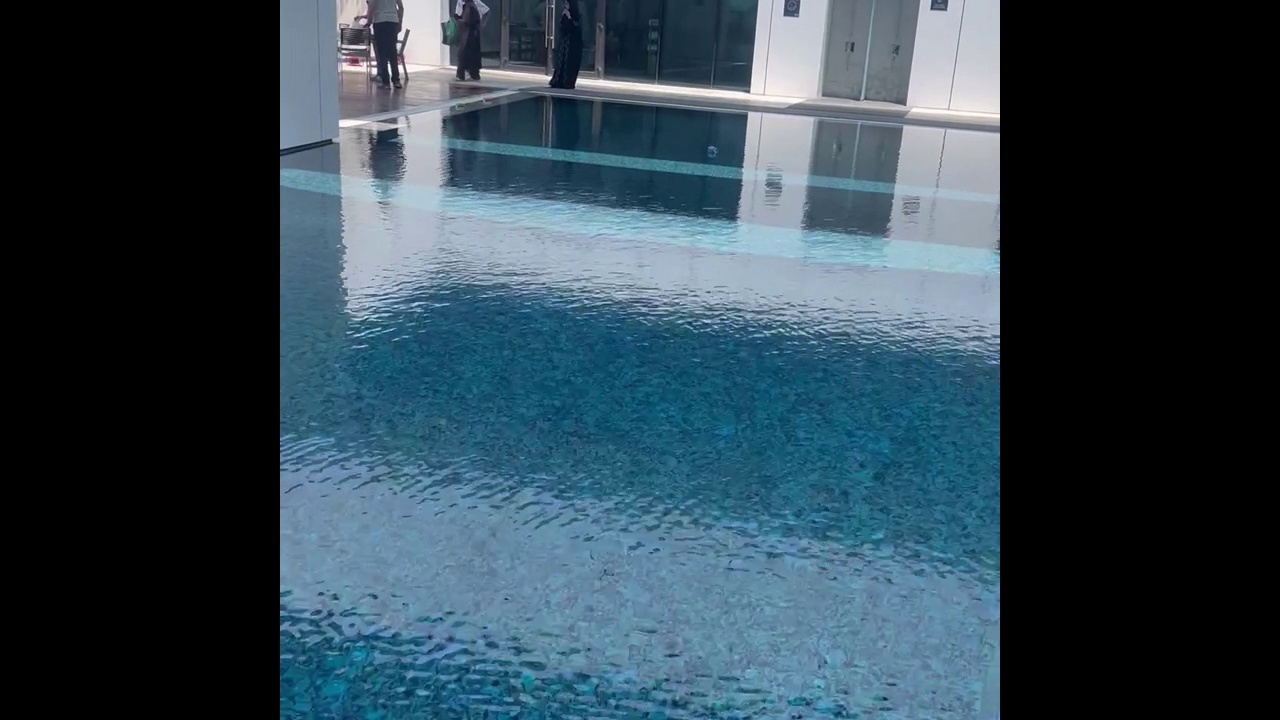debris: (452, 101, 469, 114), (704, 143, 717, 158), (480, 95, 494, 107)
